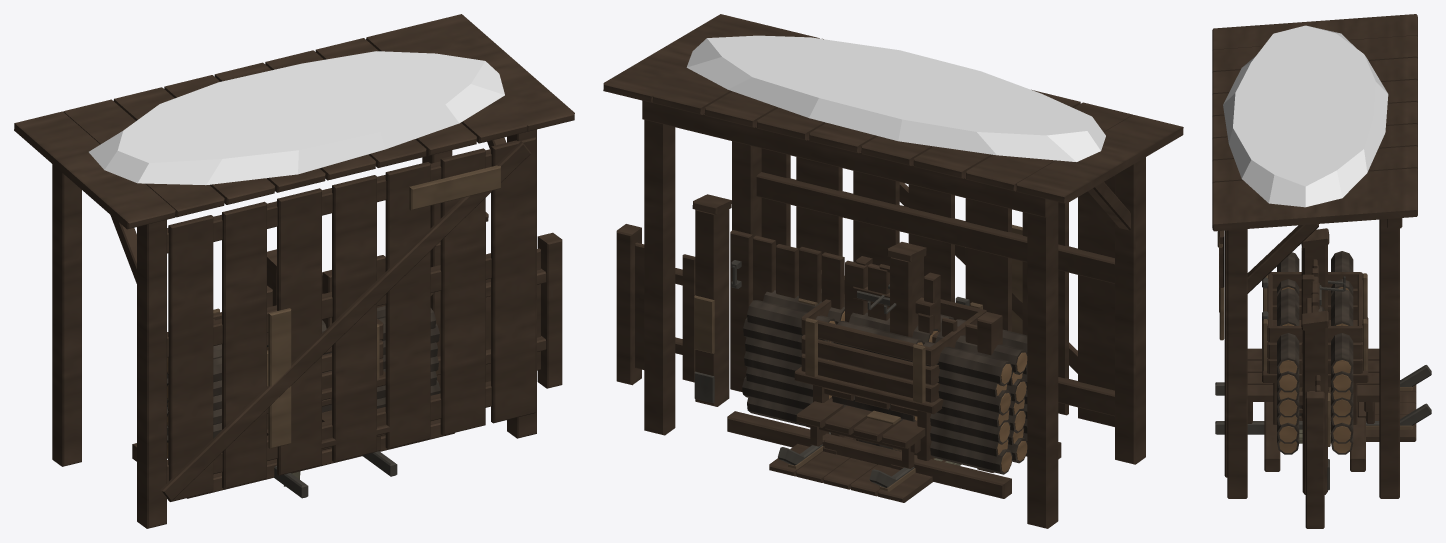
Rendered from VillageLifeProps3D.fbx.
3 renders of one model, left to right at view 1: azimuth 30°, elevation 25°; view 2: azimuth 150°, elevation 25°; view 3: azimuth 270°, elevation 25°, orthographic. The views are drawn at different scales.
Visible parts, largest first — view 1: GEO_WoodShelter_Wood, GEO_WoodShelter_Snow, GEO_WoodShelter_Repair, GEO_GatePosts_Wood, GEO_LogStack_Bark, GEO_LogStack_Wood, GEO_StationCrate_Wood, GEO_UtilitySled_Iron, GEO_GateLeaf_Wood, GEO_UtilitySled_Wood; view 2: GEO_WoodShelter_Wood, GEO_WoodShelter_Snow, GEO_LogStack_Bark, GEO_GatePosts_Wood, GEO_StationCrate_Wood, GEO_GateLeaf_Wood, GEO_LogStack_Wood, GEO_UtilitySled_Wood, GEO_StationLid_Wood, GEO_ShovelRack_Wood, GEO_LogStack_Endgrain, GEO_StationCrate_Repair (+4 smaller); view 3: GEO_WoodShelter_Wood, GEO_WoodShelter_Snow, GEO_GatePosts_Wood, GEO_LogStack_Bark, GEO_StationCrate_Wood, GEO_LogStack_Endgrain, GEO_UtilitySled_Wood, GEO_LogStack_Wood, GEO_UtilitySled_Iron, GEO_StationLid_Wood, GEO_StationCrate_Repair, GEO_ShovelRack_Wood (+2 smaller).
Part boxes in pixels (x1,y1,x2,y2): GEO_WoodShelter_Wood: [14, 14, 574, 528]; GEO_WoodShelter_Snow: [89, 51, 504, 185]; GEO_WoodShelter_Repair: [268, 165, 500, 448]; GEO_GatePosts_Wood: [267, 212, 562, 388]; GEO_LogStack_Bark: [167, 306, 440, 459]; GEO_LogStack_Wood: [132, 419, 454, 498]; GEO_StationCrate_Wood: [213, 312, 385, 429]; GEO_UtilitySled_Iron: [274, 451, 397, 498]; GEO_GateLeaf_Wood: [322, 241, 440, 388]; GEO_UtilitySled_Wood: [267, 410, 396, 455]; GEO_WoodShelter_Wood: [603, 14, 1183, 528]; GEO_WoodShelter_Snow: [686, 35, 1105, 161]; GEO_LogStack_Bark: [742, 289, 1027, 474]; GEO_GatePosts_Wood: [616, 194, 1002, 472]; GEO_StationCrate_Wood: [794, 295, 986, 460]; GEO_GateLeaf_Wood: [730, 230, 889, 392]; GEO_LogStack_Wood: [727, 411, 1061, 498]; GEO_UtilitySled_Wood: [796, 397, 925, 468]; GEO_StationLid_Wood: [769, 444, 946, 502]; GEO_ShovelRack_Wood: [823, 256, 940, 469]; GEO_LogStack_Endgrain: [828, 311, 1027, 472]; GEO_StationCrate_Repair: [805, 302, 982, 403]; GEO_WoodShelter_Wood: [1212, 14, 1417, 498]; GEO_WoodShelter_Snow: [1223, 25, 1388, 207]; GEO_GatePosts_Wood: [1301, 228, 1329, 528]; GEO_LogStack_Bark: [1277, 251, 1353, 454]; GEO_StationCrate_Wood: [1262, 272, 1368, 424]; GEO_LogStack_Endgrain: [1279, 287, 1351, 452]; GEO_UtilitySled_Wood: [1247, 348, 1379, 423]; GEO_LogStack_Wood: [1264, 402, 1365, 471]; GEO_UtilitySled_Iron: [1215, 365, 1431, 434]; GEO_StationLid_Wood: [1330, 385, 1416, 441]; GEO_StationCrate_Repair: [1263, 273, 1367, 370]; GEO_ShovelRack_Wood: [1301, 247, 1366, 420].
Size of the model in its own units: 3.18 by 2.43 by 1.38.
